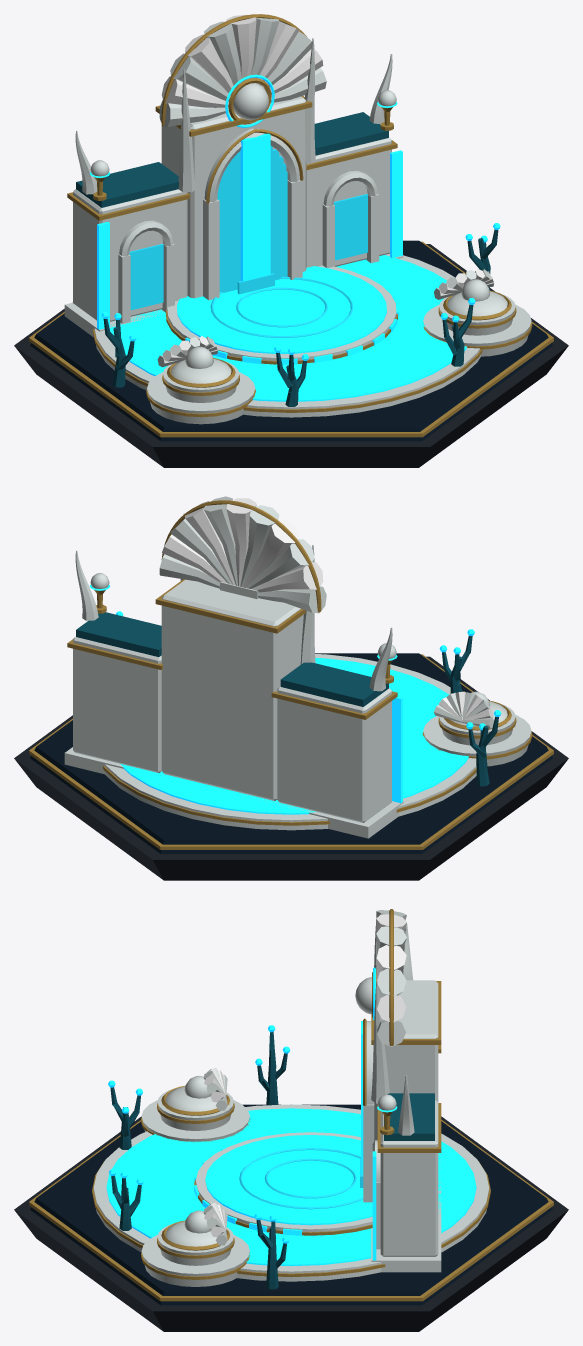
The model's file is poseidon_structure_pearl_infirmary.glb.
3 views of the same model, one above another, from view 1: azimuth 30°, elevation 25°; view 2: azimuth 150°, elevation 25°; view 3: azimuth 270°, elevation 25° (orthographic).
Visible parts, largest first — view 1: poseidon_structure_pearl_infirmary; view 2: poseidon_structure_pearl_infirmary; view 3: poseidon_structure_pearl_infirmary.
Boxes of the visible parts, left/top/right/bottom form: poseidon_structure_pearl_infirmary: left=14, top=14, right=568, bottom=467; poseidon_structure_pearl_infirmary: left=14, top=496, right=568, bottom=880; poseidon_structure_pearl_infirmary: left=14, top=909, right=568, bottom=1331.
Bounding box in the file's own units: 1.51 × 1.11 × 1.74.
1 material, 1 textured.
